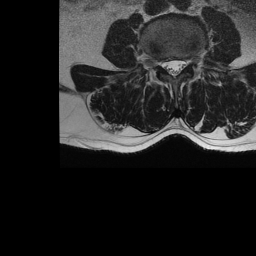CCS_normal: (170, 53, 178, 82)
LFS_normal: (187, 50, 194, 72)
LLS_normal: (178, 53, 187, 76)
RFS_stenosis: (155, 51, 162, 74)
RLS_normal: (162, 53, 170, 77)
